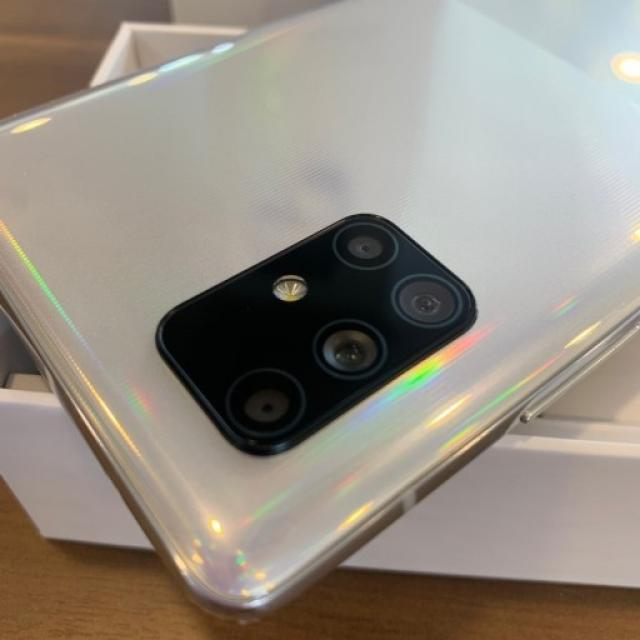lens: (163, 208, 470, 453)
phone: (0, 0, 640, 622)
